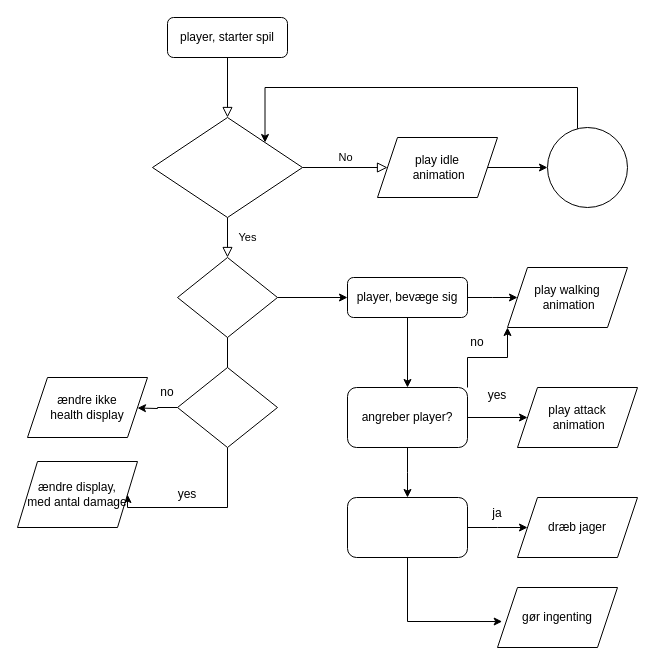
Some shapes in this 655 by 665 pixel diagram are drawn without their labels. The centre of each missing label's shape, as x and y in pixels:
check if player makes input: the point at 587,167
laver player movement input?: the point at 227,167
modtage input: the point at 227,297
rammer player Enemy_Jager?: the point at 407,527
tager player skade?: the point at 227,407
